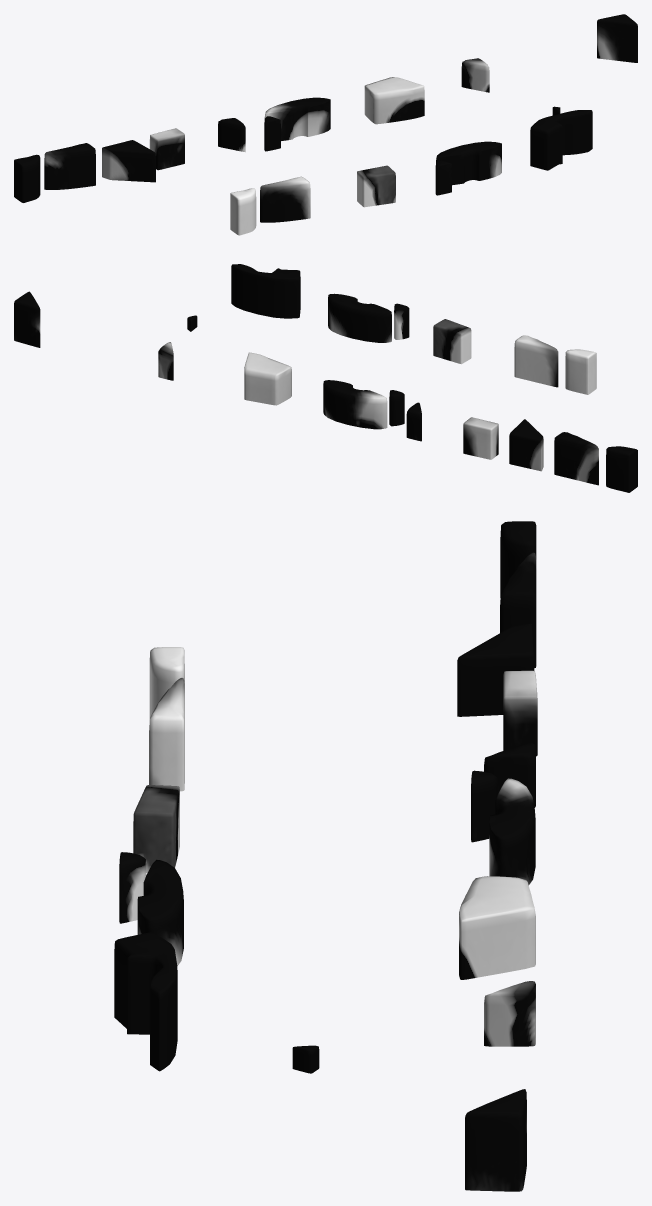
The model's file is codeDivoire_bleu.gltf.
The picture shows the model from 3 angles, top to bottom: view 1: azimuth 30°, elevation 25°; view 2: azimuth 150°, elevation 25°; view 3: azimuth 270°, elevation 25°; orthographic projection. The views are drawn at different scales.
Parts seen in each view (by area): view 1: bleu.001; view 2: bleu.001; view 3: bleu.001.
Part boxes in pixels (left/top/right/bottom): bleu.001: left=14, top=14, right=637, bottom=235; bleu.001: left=14, top=264, right=637, bottom=492; bleu.001: left=114, top=521, right=537, bottom=1191.
Size of the model in its own units: 18.65 by 1.14 by 5.62.
1 material, 1 textured.
